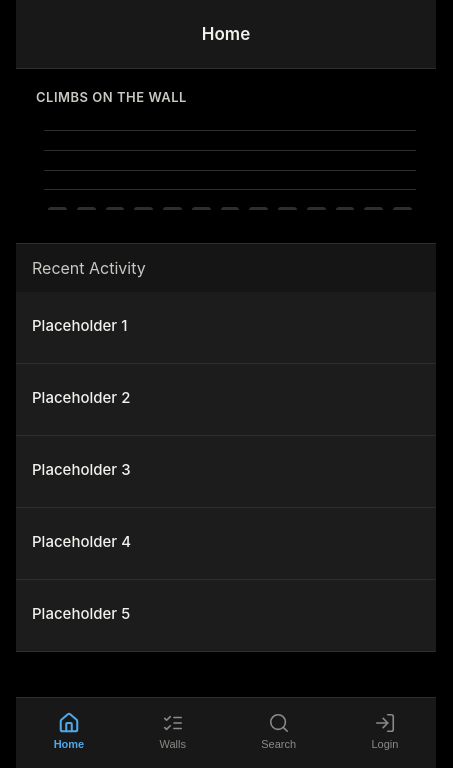
App() — Walls drill-down and back behavior › re-tapping the active Walls tab pops straight back to the root list
What coordinates should you click on to do the following:
click the button "Walls"
I would click on:
 (173, 731)
Its box is [152, 708, 194, 754].
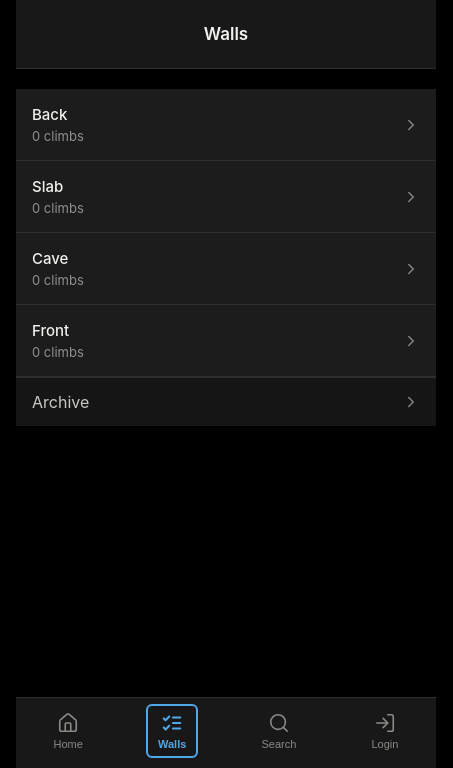
What coordinates should you click on to do the following:
click the button "Cave 0 climbs"
I would click on:
 (50, 258)
Its box is [16, 233, 436, 305].
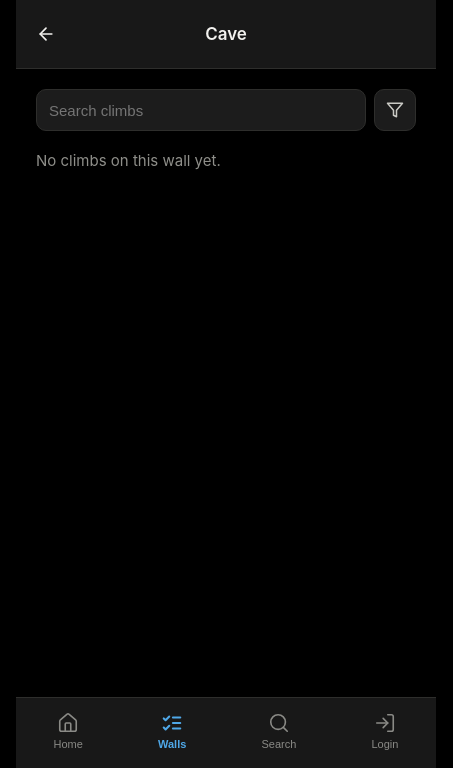
Check: the heading "Cave" is shown, box [205, 24, 247, 44]
What coordinates should you click on to do the following:
click the button "Walls"
I would click on:
 (172, 731)
Its box is [150, 708, 194, 754].
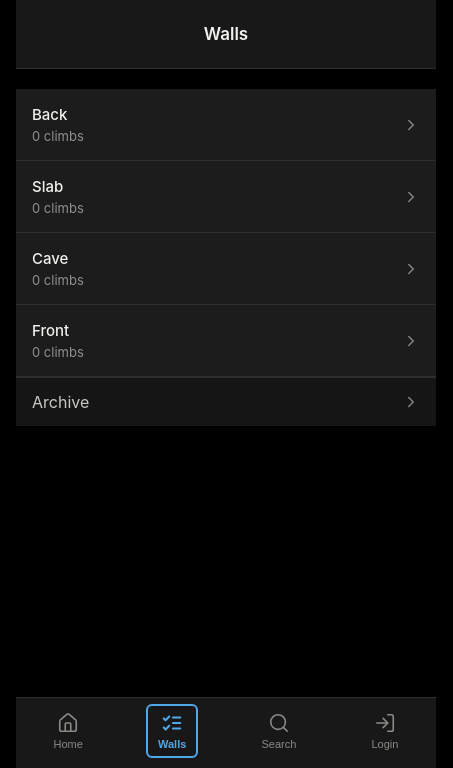
Check: the button "Cave 0 climbs" is shown, box [16, 233, 436, 305]
